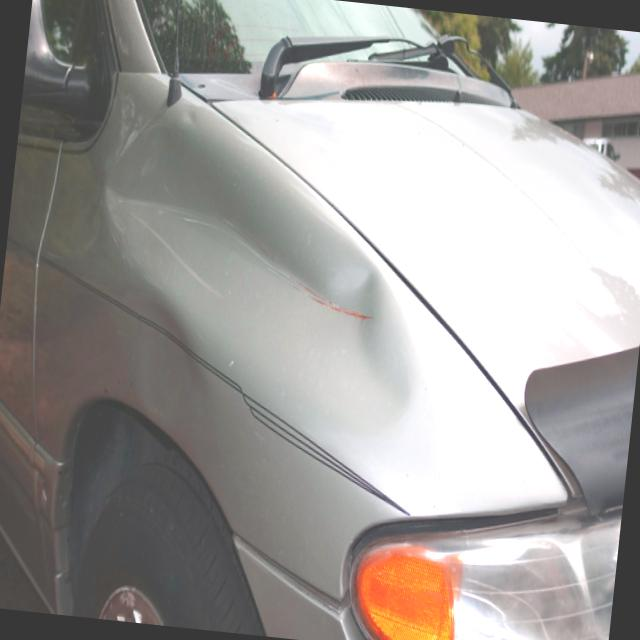Cabossage: (66, 92, 454, 456)
Rayure: (110, 191, 388, 324)
